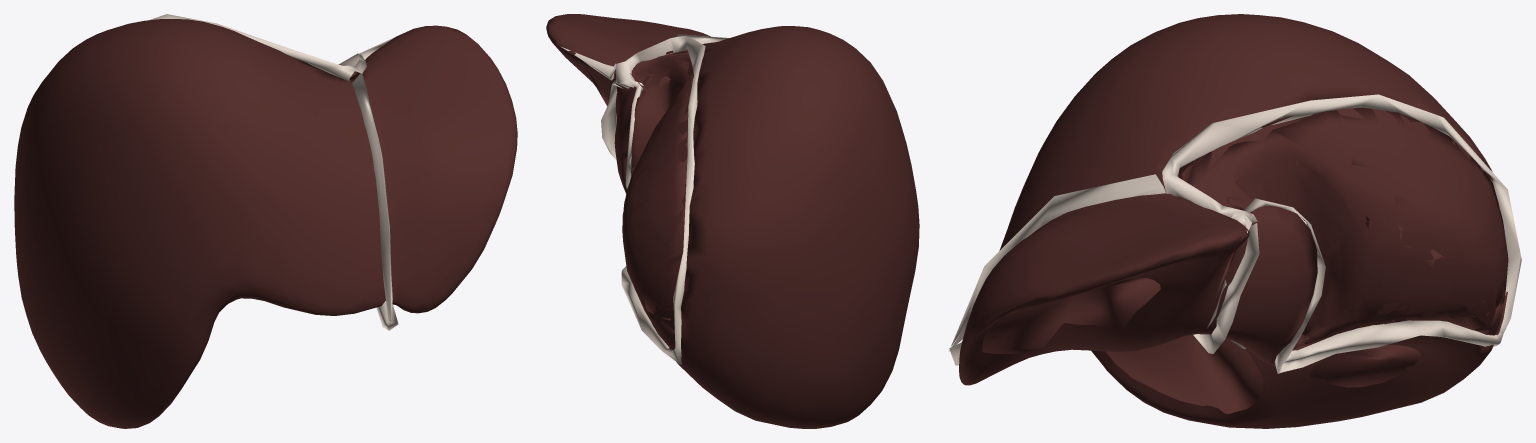
Rendered from 3d-vh-m-liver_lod_20.glb.
3 renders of one model, left to right at view 1: azimuth 30°, elevation 25°; view 2: azimuth 150°, elevation 25°; view 3: azimuth 270°, elevation 25°, orthographic. The views are drawn at different scales.
Parts seen in each view (by area): view 1: VH_M_liver_capsule, VH_M_falciform_ligament, VH_M_coronary_ligament_of_liver; view 2: VH_M_liver_capsule, VH_M_bare_area_of_liver, VH_M_coronary_ligament_of_liver, VH_M_right_posterosuperior_segment, VH_M_caudate_lobe_of_liver, VH_M_ligamentum_venosum, VH_M_diaphragmatic_surface, VH_M_right_posteroinferior_segment, VH_M_triangular_ligament_of_liver; view 3: VH_M_liver_capsule, VH_M_bare_area_of_liver, VH_M_coronary_ligament_of_liver, VH_M_right_posterosuperior_segment, VH_M_colic_impression_of_liver, VH_M_gastric_impression_of_liver, VH_M_caudate_lobe_of_liver, VH_M_diaphragmatic_surface, VH_M_falciform_ligament, VH_M_renal_impression_of_liver, VH_M_ligamentum_venosum.
Part boxes in pixels (left/top/right/bottom): VH_M_liver_capsule: left=14, top=19, right=517, bottom=428; VH_M_falciform_ligament: left=352, top=73, right=392, bottom=321; VH_M_coronary_ligament_of_liver: left=149, top=14, right=366, bottom=81; VH_M_liver_capsule: left=546, top=14, right=919, bottom=428; VH_M_bare_area_of_liver: left=622, top=50, right=691, bottom=347; VH_M_coronary_ligament_of_liver: left=615, top=36, right=705, bottom=364; VH_M_right_posterosuperior_segment: left=622, top=100, right=689, bottom=313; VH_M_caudate_lobe_of_liver: left=615, top=52, right=693, bottom=137; VH_M_ligamentum_venosum: left=601, top=80, right=622, bottom=159; VH_M_diaphragmatic_surface: left=622, top=74, right=680, bottom=327; VH_M_right_posteroinferior_segment: left=643, top=306, right=674, bottom=346; VH_M_triangular_ligament_of_liver: left=561, top=47, right=615, bottom=80; VH_M_liver_capsule: left=959, top=14, right=1507, bottom=428; VH_M_bare_area_of_liver: left=1178, top=107, right=1508, bottom=344; VH_M_coronary_ligament_of_liver: left=1162, top=94, right=1521, bottom=373; VH_M_right_posterosuperior_segment: left=1337, top=108, right=1506, bottom=317; VH_M_colic_impression_of_liver: left=1105, top=335, right=1263, bottom=413; VH_M_gastric_impression_of_liver: left=982, top=278, right=1160, bottom=353; VH_M_caudate_lobe_of_liver: left=1187, top=116, right=1367, bottom=349; VH_M_diaphragmatic_surface: left=994, top=154, right=1497, bottom=347; VH_M_falciform_ligament: left=948, top=174, right=1165, bottom=351; VH_M_renal_impression_of_liver: left=1310, top=345, right=1421, bottom=387; VH_M_ligamentum_venosum: left=1193, top=223, right=1259, bottom=353.
Bounding box in the file's own units: 0.1913 × 0.1744 × 0.2018.
